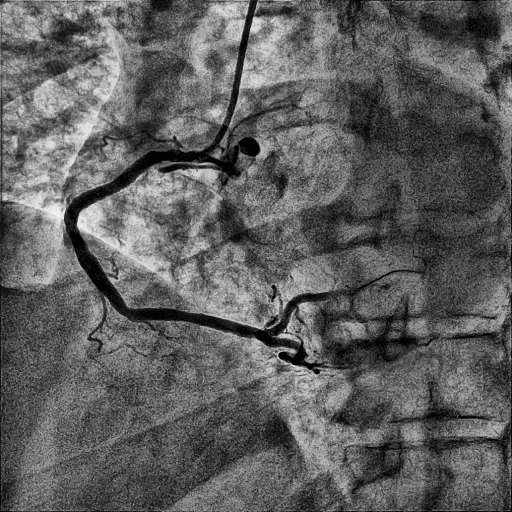pborca: (267, 287, 360, 336)
pda: (263, 337, 353, 370)
rca: (64, 150, 270, 342)
